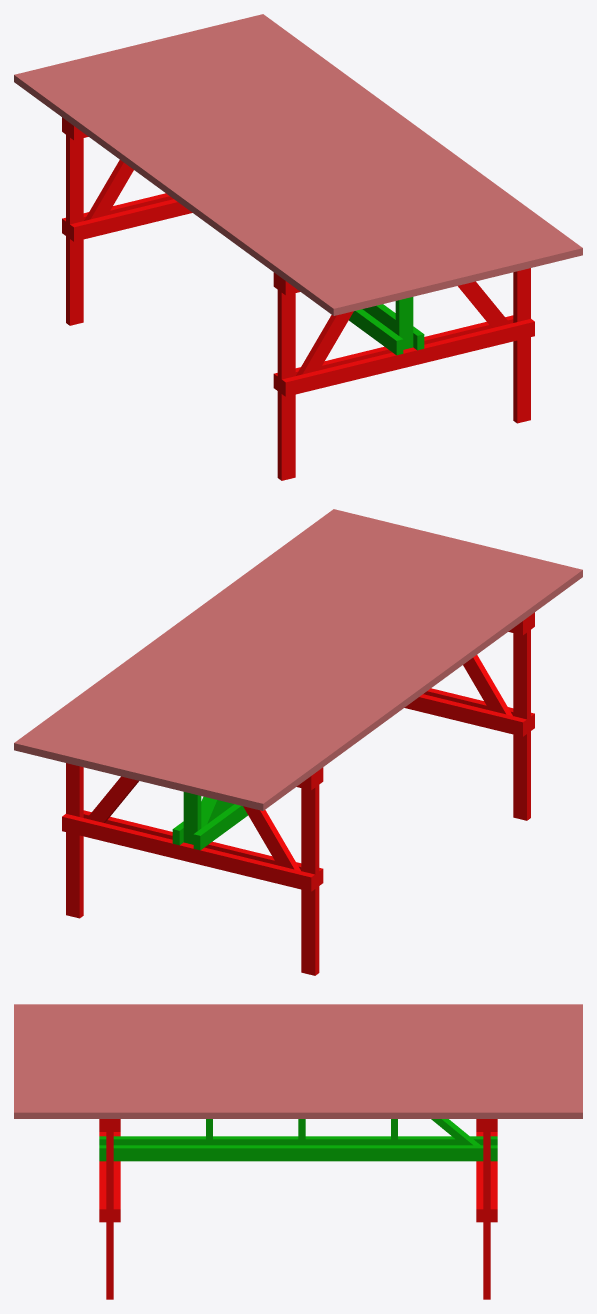
Rendered from result.glb.
The picture shows the model from 3 angles, top to bottom: view 1: azimuth 30°, elevation 25°; view 2: azimuth 150°, elevation 25°; view 3: azimuth 270°, elevation 25°; orthographic projection. The views are drawn at different scales.
Visible parts, largest first — view 1: e8544a82-635c-48c7-af50-485e06480349__Box, 1c612431-a833-4d39-9972-0bc443b527cf__sideH, a8a672f5-6240-4b6d-b51d-6a69eddac829__undefined, 50016324-8744-4f1d-9dcb-6144ab547f6d__undefined, 18ae4f4c-e45a-4fbf-988f-130664b515cd__undefined, 0a30d300-4d50-4fa7-adfa-418ecea6e545__undefined, e89bb35a-f19d-401b-afa2-4f7b2edeef6d__undefined, ab5d5453-55f8-429b-8456-f564a577976c__undefined, bb1ab920-fc7f-4d5b-aed1-da2902b82021__undefined, a172044f-471a-45fd-8905-486f99aeb05d__undefined, a253bbae-b608-4a0c-a248-5b3b6db3b5e9__undefined, e2bd90aa-a402-48ae-9181-5c2c8d8d1d8a__undefined (+19 smaller); view 2: e8544a82-635c-48c7-af50-485e06480349__Box, 47d6678f-60d8-4410-9c75-2e31c1bb5428__undefined, a8a672f5-6240-4b6d-b51d-6a69eddac829__undefined, 50016324-8744-4f1d-9dcb-6144ab547f6d__undefined, 18ae4f4c-e45a-4fbf-988f-130664b515cd__undefined, 0a30d300-4d50-4fa7-adfa-418ecea6e545__undefined, e89bb35a-f19d-401b-afa2-4f7b2edeef6d__undefined, ab5d5453-55f8-429b-8456-f564a577976c__undefined, bb1ab920-fc7f-4d5b-aed1-da2902b82021__undefined, a172044f-471a-45fd-8905-486f99aeb05d__undefined, a253bbae-b608-4a0c-a248-5b3b6db3b5e9__undefined, e2bd90aa-a402-48ae-9181-5c2c8d8d1d8a__undefined (+18 smaller); view 3: afb5489a-5f36-4ad8-a1ba-a4f495e9beec__undefined, 016997c3-73f8-4575-8bcf-903771ed87e5__strutH, e8544a82-635c-48c7-af50-485e06480349__Box, bb1ab920-fc7f-4d5b-aed1-da2902b82021__undefined, a172044f-471a-45fd-8905-486f99aeb05d__undefined, e2bd90aa-a402-48ae-9181-5c2c8d8d1d8a__undefined, ae5e8147-2aaf-497c-a73e-2222bb3af0d1__undefined, 9d44f437-fe93-4414-8825-adf35e6a68d2__undefined, a253bbae-b608-4a0c-a248-5b3b6db3b5e9__undefined, 0a30d300-4d50-4fa7-adfa-418ecea6e545__undefined, e89bb35a-f19d-401b-afa2-4f7b2edeef6d__undefined, a8a672f5-6240-4b6d-b51d-6a69eddac829__undefined (+15 smaller).
Boxes of the visible parts, <box> form: e8544a82-635c-48c7-af50-485e06480349__Box: <box>14,71,347,315</box>; 1c612431-a833-4d39-9972-0bc443b527cf__sideH: <box>281,319,534,396</box>; a8a672f5-6240-4b6d-b51d-6a69eddac829__undefined: <box>139,41,472,285</box>; 50016324-8744-4f1d-9dcb-6144ab547f6d__undefined: <box>208,24,541,268</box>; 18ae4f4c-e45a-4fbf-988f-130664b515cd__undefined: <box>222,21,555,265</box>; 0a30d300-4d50-4fa7-adfa-418ecea6e545__undefined: <box>111,48,444,292</box>; e89bb35a-f19d-401b-afa2-4f7b2edeef6d__undefined: <box>125,44,458,288</box>; ab5d5453-55f8-429b-8456-f564a577976c__undefined: <box>194,27,527,271</box>; bb1ab920-fc7f-4d5b-aed1-da2902b82021__undefined: <box>28,68,361,312</box>; a172044f-471a-45fd-8905-486f99aeb05d__undefined: <box>42,64,375,309</box>; a253bbae-b608-4a0c-a248-5b3b6db3b5e9__undefined: <box>97,51,430,295</box>; e2bd90aa-a402-48ae-9181-5c2c8d8d1d8a__undefined: <box>56,61,388,305</box>; e8544a82-635c-48c7-af50-485e06480349__Box: <box>249,566,582,810</box>; 47d6678f-60d8-4410-9c75-2e31c1bb5428__undefined: <box>62,814,315,891</box>; a8a672f5-6240-4b6d-b51d-6a69eddac829__undefined: <box>124,536,457,780</box>; 50016324-8744-4f1d-9dcb-6144ab547f6d__undefined: <box>55,519,388,763</box>; 18ae4f4c-e45a-4fbf-988f-130664b515cd__undefined: <box>41,516,374,760</box>; 0a30d300-4d50-4fa7-adfa-418ecea6e545__undefined: <box>152,543,485,787</box>; e89bb35a-f19d-401b-afa2-4f7b2edeef6d__undefined: <box>138,539,471,783</box>; ab5d5453-55f8-429b-8456-f564a577976c__undefined: <box>69,522,402,766</box>; bb1ab920-fc7f-4d5b-aed1-da2902b82021__undefined: <box>235,563,568,807</box>; a172044f-471a-45fd-8905-486f99aeb05d__undefined: <box>221,559,554,804</box>; a253bbae-b608-4a0c-a248-5b3b6db3b5e9__undefined: <box>166,546,499,790</box>; e2bd90aa-a402-48ae-9181-5c2c8d8d1d8a__undefined: <box>208,556,540,800</box>; afb5489a-5f36-4ad8-a1ba-a4f495e9beec__undefined: <box>14,1106,582,1118</box>; 016997c3-73f8-4575-8bcf-903771ed87e5__strutH: <box>99,1145,497,1161</box>; e8544a82-635c-48c7-af50-485e06480349__Box: <box>14,1004,582,1010</box>; bb1ab920-fc7f-4d5b-aed1-da2902b82021__undefined: <box>14,1010,582,1016</box>; a172044f-471a-45fd-8905-486f99aeb05d__undefined: <box>14,1016,582,1022</box>; e2bd90aa-a402-48ae-9181-5c2c8d8d1d8a__undefined: <box>14,1022,582,1028</box>; ae5e8147-2aaf-497c-a73e-2222bb3af0d1__undefined: <box>14,1028,582,1034</box>; 9d44f437-fe93-4414-8825-adf35e6a68d2__undefined: <box>14,1034,582,1040</box>; a253bbae-b608-4a0c-a248-5b3b6db3b5e9__undefined: <box>14,1040,582,1046</box>; 0a30d300-4d50-4fa7-adfa-418ecea6e545__undefined: <box>14,1046,582,1052</box>; e89bb35a-f19d-401b-afa2-4f7b2edeef6d__undefined: <box>14,1052,582,1058</box>; a8a672f5-6240-4b6d-b51d-6a69eddac829__undefined: <box>14,1058,582,1064</box>.
Bounding box in the file's own units: 900 × 725 × 2000.
